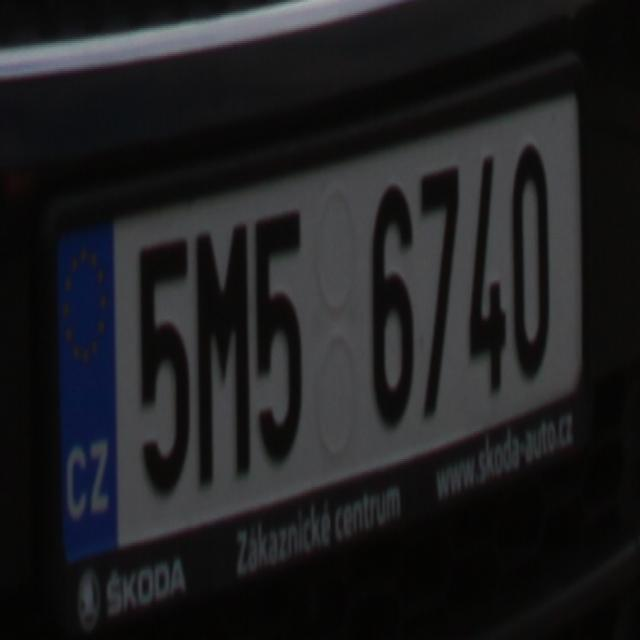0: (508, 136, 552, 388)
4: (467, 151, 508, 388)
5: (136, 232, 192, 486), (252, 211, 303, 463)
6: (368, 182, 414, 424)
7: (417, 161, 462, 416)
M: (193, 222, 253, 476)
